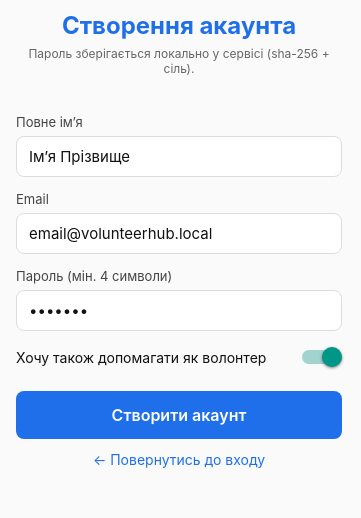
Test case: Phase 6 — RegisterScreen › REG1: blocks short fullName / bad email / short password
Expected: the element with test id "register-submit" is shown, [16,391,342,439]
Type "Z" into the field with test id "register-full-name" at point(179, 156), box [16,136,342,177]
Click the element with test id "register-submit" at point(179, 415), box [16,391,342,439]
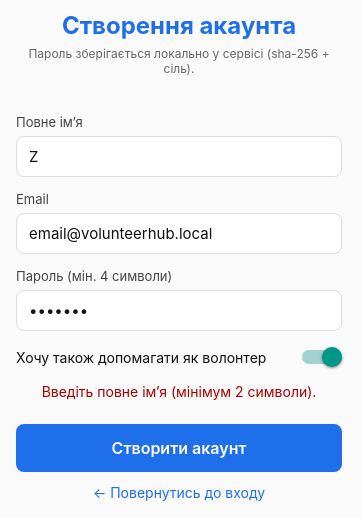
Now the text with test id "register-error" shows "мінімум 2 символи", box [42,383,316,400]
Replace the text in the field with test id "register-full-name" with "Імʼя" at point(179, 156), box [16,136,342,177]
Type "not-an-email" into the field with test id "register-email" at point(179, 234), box [16,213,342,254]
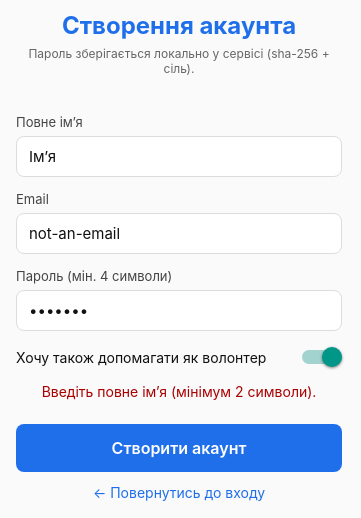
Click the element with test id "register-submit" at point(179, 448), box [16,424,342,472]
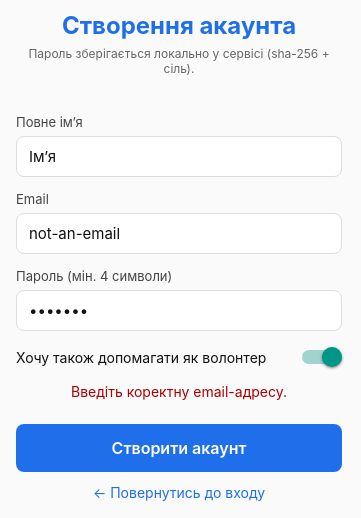
Now the text with test id "register-error" shows "email", box [71,383,287,400]
Replace the text in the field with test id "register-email" with "good@x.io" at point(179, 234), box [16,213,342,254]
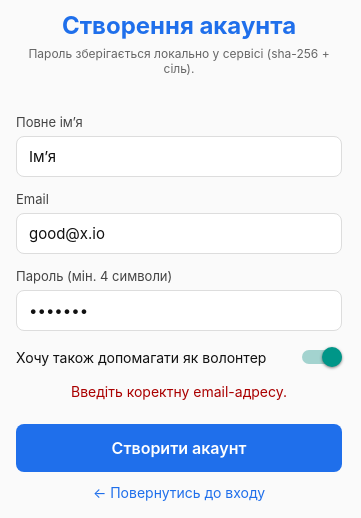
Type "12" into the password field with test id "register-password" at point(179, 310), box [16,290,342,331]
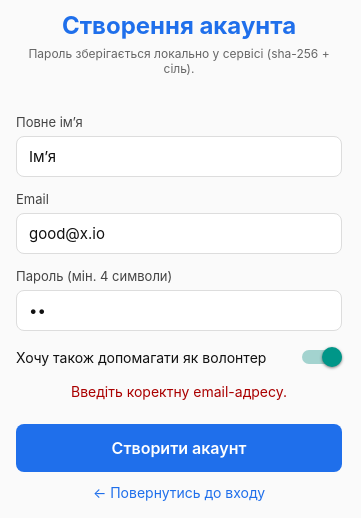
Click the element with test id "register-submit" at point(179, 448), box [16,424,342,472]
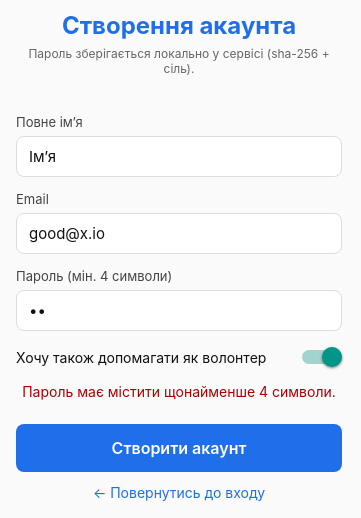
Now the text with test id "register-error" shows "щонайменше 4 символи", box [22,383,336,400]
